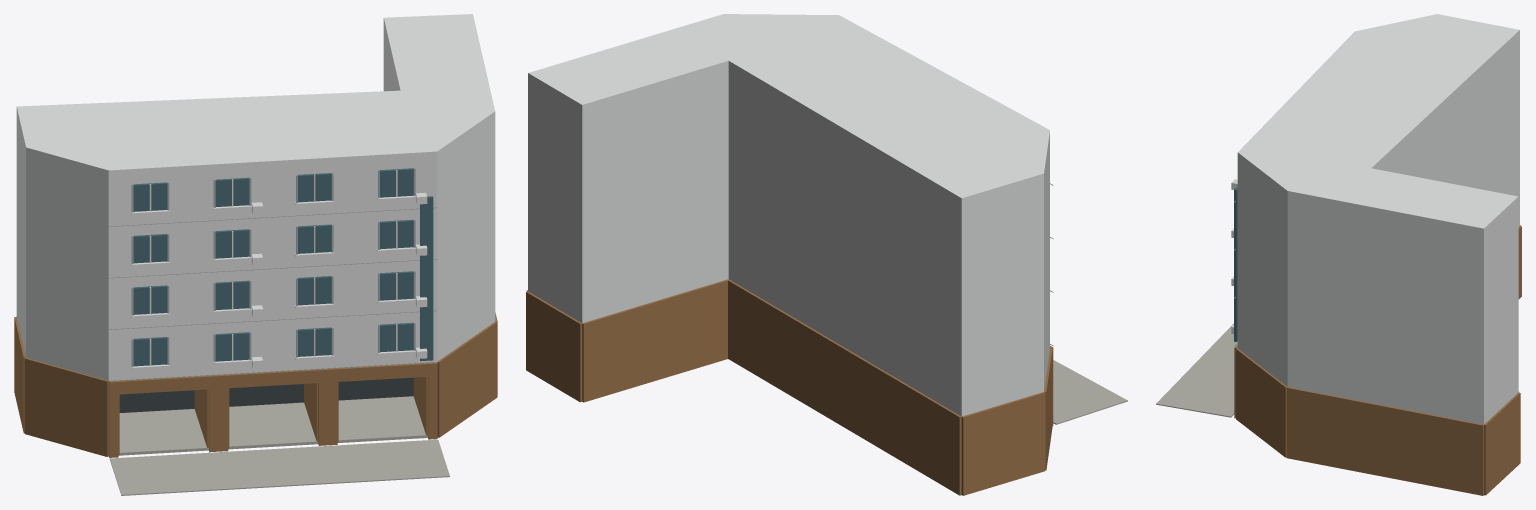
File: Choryang119Restored.fbx
The picture shows the model from 3 angles, left to right: view 1: azimuth 30°, elevation 25°; view 2: azimuth 150°, elevation 25°; view 3: azimuth 270°, elevation 25°; orthographic projection. The views are drawn at different scales.
Parts seen in each view (by area): view 1: Upper occupied volume INFERRED_HEIGHT.001, Roof slab INFERRED_FORM, Front apron INFERRED_EXTENT.001, Source footprint ground slab.001, Unobserved ground wall INFERRED.006, Unobserved ground wall INFERRED.007, Observed narrow vertical glazing strip, Apparatus lintel.004, Apparatus lintel.003, Apparatus lintel.005, Apparatus opening recessed back INFERRED_DEPTH.005, Apparatus opening recessed back INFERRED_DEPTH.003 (+25 smaller); view 2: Upper occupied volume INFERRED_HEIGHT.001, Roof slab INFERRED_FORM, Unobserved ground wall INFERRED.011, Unobserved ground wall INFERRED.010, Unobserved ground wall INFERRED.005, Unobserved ground wall INFERRED.009, Front apron INFERRED_EXTENT.001, Unobserved ground wall INFERRED.006; view 3: Upper occupied volume INFERRED_HEIGHT.001, Roof slab INFERRED_FORM, Unobserved ground wall INFERRED.008, Front apron INFERRED_EXTENT.001, Unobserved ground wall INFERRED.007, Unobserved ground wall INFERRED.009, Observed narrow vertical glazing strip.
Part boxes in pixels (box(x1,y1,x2,y2)): Upper occupied volume INFERRED_HEIGHT.001: box(16, 22, 495, 380); Roof slab INFERRED_FORM: box(16, 14, 495, 174); Front apron INFERRED_EXTENT.001: box(109, 439, 449, 495); Source footprint ground slab.001: box(119, 396, 427, 455); Unobserved ground wall INFERRED.006: box(24, 358, 108, 456); Unobserved ground wall INFERRED.007: box(437, 321, 497, 437); Observed narrow vertical glazing strip: box(420, 196, 433, 360); Apparatus lintel.004: box(218, 368, 328, 388); Apparatus lintel.003: box(108, 374, 218, 394); Apparatus lintel.005: box(328, 362, 437, 382); Apparatus opening recessed back INFERRED_DEPTH.005: box(338, 377, 413, 400); Apparatus opening recessed back INFERRED_DEPTH.003: box(119, 390, 194, 412); Upper occupied volume INFERRED_HEIGHT.001: box(528, 65, 1049, 416); Roof slab INFERRED_FORM: box(528, 14, 1049, 202); Unobserved ground wall INFERRED.011: box(728, 279, 961, 495); Unobserved ground wall INFERRED.010: box(582, 279, 728, 402); Unobserved ground wall INFERRED.005: box(961, 392, 1045, 495); Unobserved ground wall INFERRED.009: box(526, 291, 582, 402); Front apron INFERRED_EXTENT.001: box(1053, 360, 1127, 424); Unobserved ground wall INFERRED.006: box(1044, 348, 1052, 470); Upper occupied volume INFERRED_HEIGHT.001: box(1237, 34, 1519, 424); Roof slab INFERRED_FORM: box(1237, 14, 1519, 232); Unobserved ground wall INFERRED.008: box(1286, 387, 1483, 495); Front apron INFERRED_EXTENT.001: box(1156, 323, 1237, 417); Unobserved ground wall INFERRED.007: box(1236, 348, 1286, 457); Unobserved ground wall INFERRED.009: box(1484, 392, 1520, 495); Observed narrow vertical glazing strip: box(1234, 187, 1237, 341).
Bounding box in the file's own units: 2899 × 1665 × 2072.
